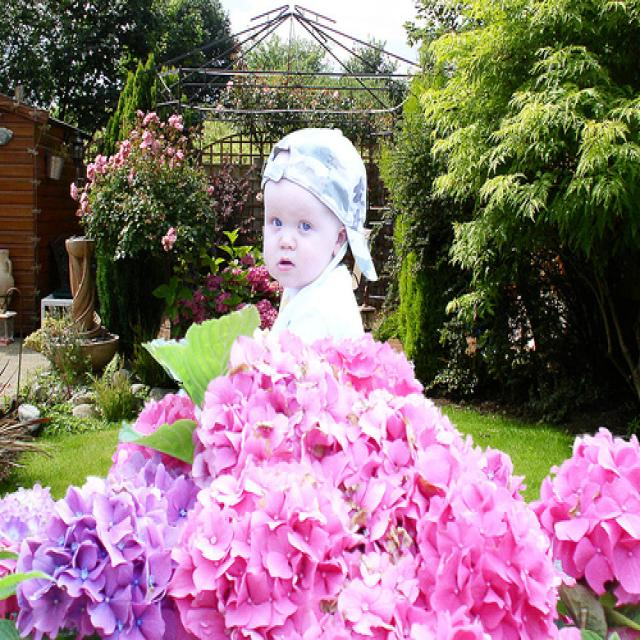person: (262, 119, 374, 342)
